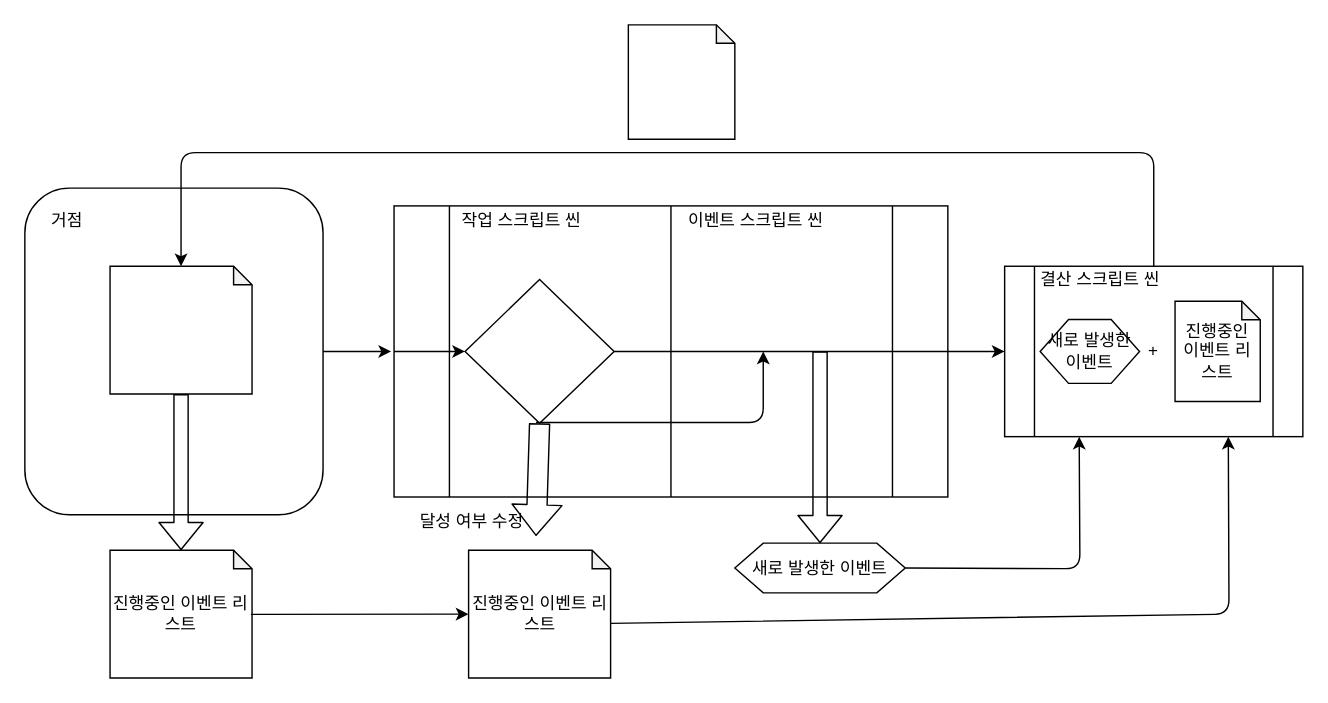
This 1328x703 diagram has some shape labels left out. Each missing label, with the centre of its shape:
"(갱신)진행중인 이벤트 리스트" goes at [681,81].
"이벤트 리스트" goes at [180,329].
"이벤트의 만족 조건을 달성 하였는가?" goes at [539,350].
